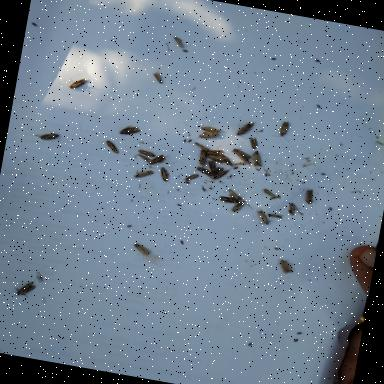pbw: (230, 115, 264, 143), (63, 70, 92, 96), (128, 162, 158, 186), (32, 126, 66, 147), (114, 119, 145, 142), (295, 182, 320, 210), (126, 238, 156, 261), (129, 150, 163, 170), (198, 149, 232, 169), (191, 120, 229, 137), (230, 146, 258, 169), (271, 255, 298, 278), (209, 166, 237, 188), (192, 126, 225, 144), (222, 185, 251, 205), (250, 207, 276, 229), (197, 142, 231, 158), (100, 138, 124, 160), (228, 198, 254, 218), (216, 192, 246, 209), (246, 148, 268, 171), (192, 144, 213, 168), (147, 150, 172, 170), (136, 144, 162, 163), (192, 164, 220, 180), (180, 170, 204, 188), (156, 163, 174, 186), (284, 198, 303, 218), (150, 68, 169, 88)
